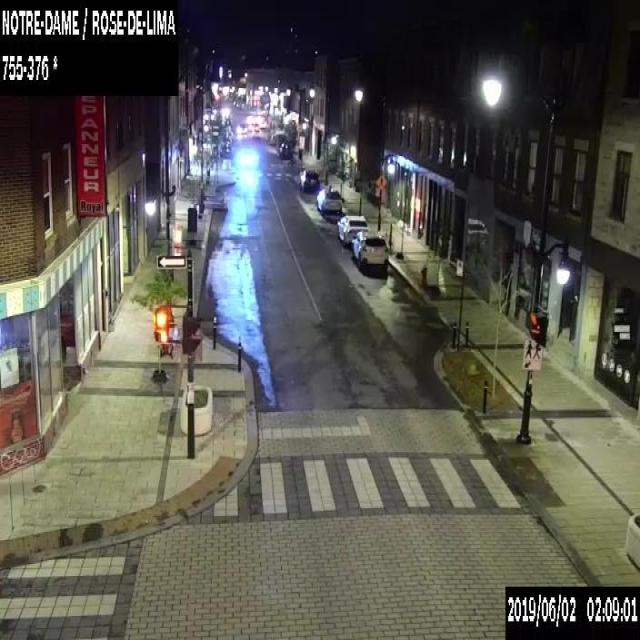vehicle: (352, 230, 387, 266), (336, 214, 366, 244), (316, 184, 342, 213), (299, 169, 319, 191), (279, 142, 290, 157)
